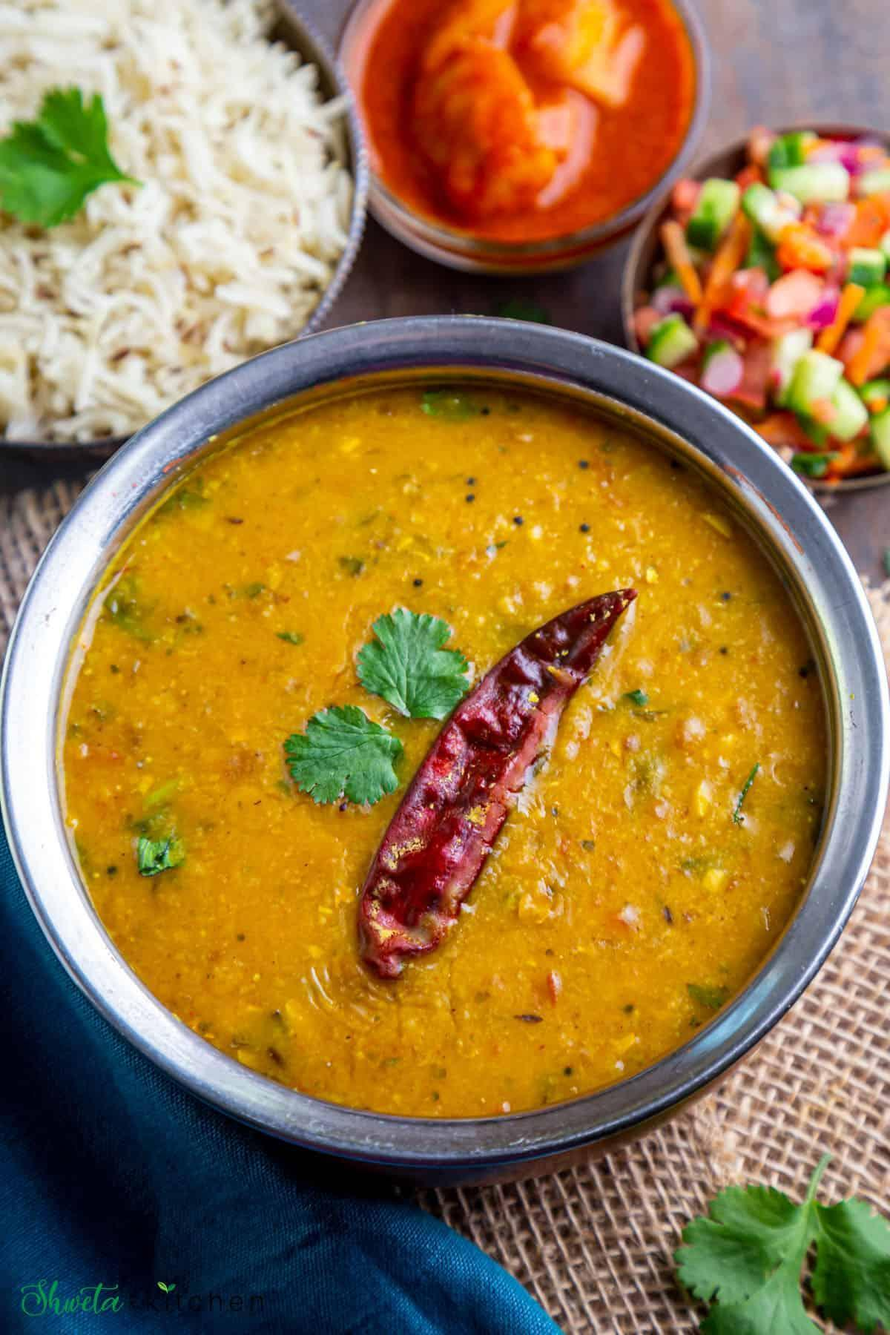dal: (63, 428, 820, 1085)
rice: (0, 9, 356, 432)
